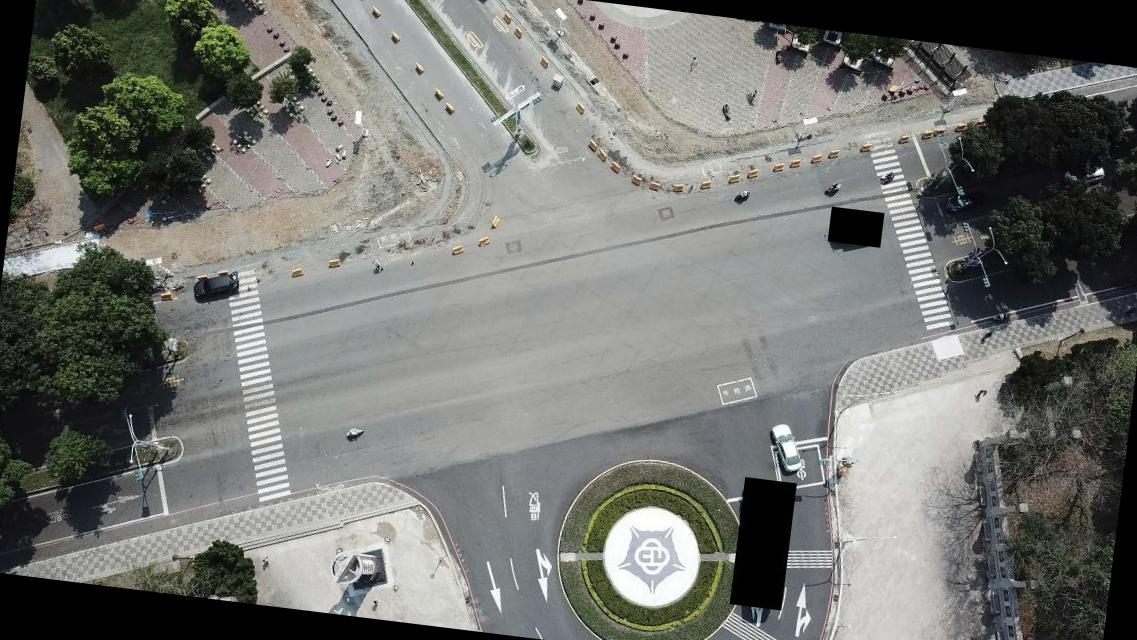vehicle: (764, 422, 807, 474), (941, 182, 991, 218), (192, 266, 240, 302), (1057, 157, 1105, 192)
